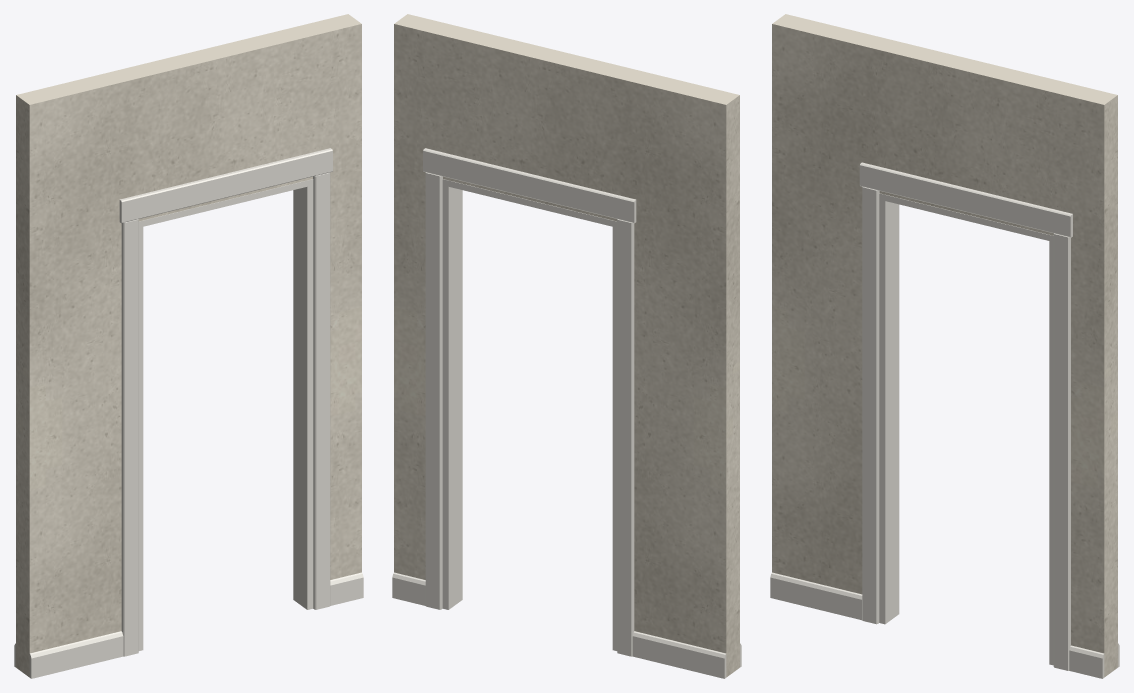
Rendered from interior_wall_end_doorway.glb.
3 renders of one model, left to right at view 1: azimuth 30°, elevation 25°; view 2: azimuth 150°, elevation 25°; view 3: azimuth 330°, elevation 25°, orthographic.
Visible parts, largest first — view 1: interior_wall_end_doorway_plaster, interior_wall_end_doorway_frame, interior_wall_end_doorway_trim; view 2: interior_wall_end_doorway_plaster, interior_wall_end_doorway_frame, interior_wall_end_doorway_trim; view 3: interior_wall_end_doorway_plaster, interior_wall_end_doorway_frame, interior_wall_end_doorway_trim.
Boxes of the visible parts, x1=… form: interior_wall_end_doorway_plaster: x1=16, y1=14, x2=361, y2=677; interior_wall_end_doorway_frame: x1=119, y1=148, x2=332, y2=656; interior_wall_end_doorway_trim: x1=14, y1=572, x2=363, y2=678; interior_wall_end_doorway_plaster: x1=394, y1=14, x2=739, y2=677; interior_wall_end_doorway_frame: x1=423, y1=148, x2=636, y2=656; interior_wall_end_doorway_trim: x1=392, y1=572, x2=741, y2=678; interior_wall_end_doorway_plaster: x1=772, y1=14, x2=1117, y2=677; interior_wall_end_doorway_frame: x1=859, y1=162, x2=1072, y2=670; interior_wall_end_doorway_trim: x1=770, y1=572, x2=1119, y2=678.
Bounding box in the file's own units: 1.7 × 2.8 × 0.16.
3 materials, 1 textured.
